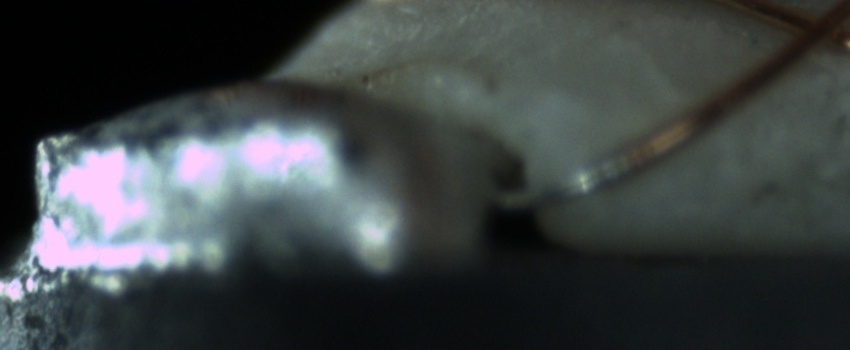CL: (775, 1, 845, 60)
TS: (504, 149, 633, 212)
